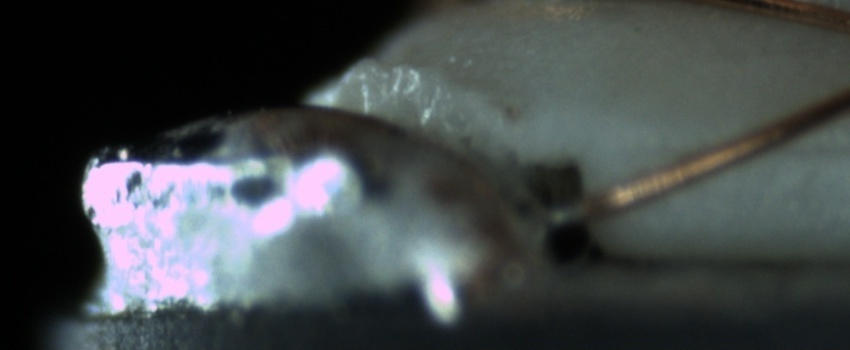DL: (764, 120, 850, 181)
TS: (545, 194, 588, 228)
